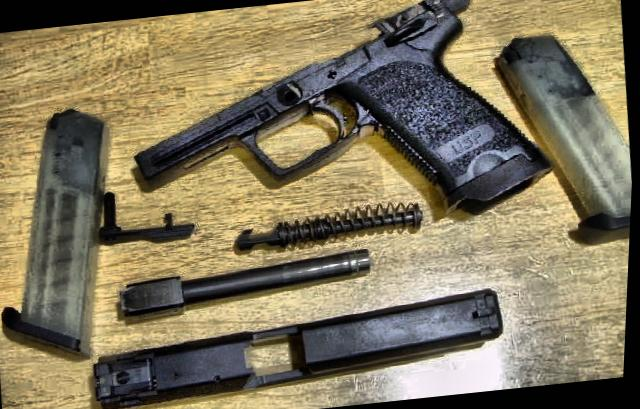pistol: (118, 0, 574, 255)
